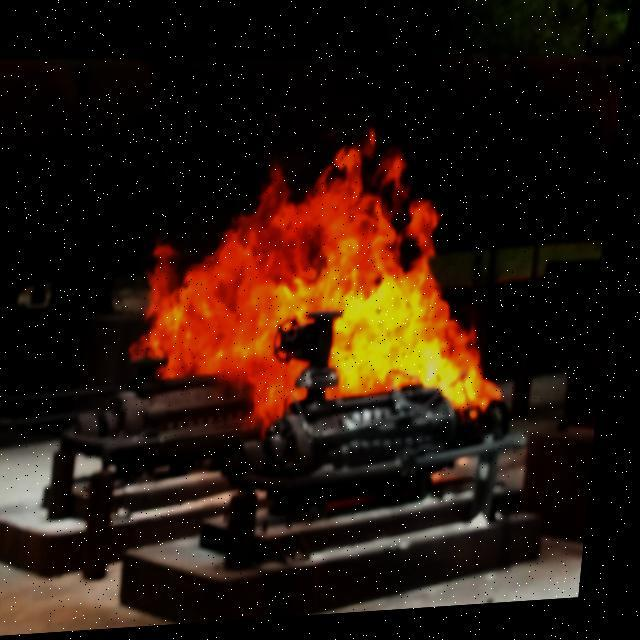Fire: (132, 131, 535, 471)
